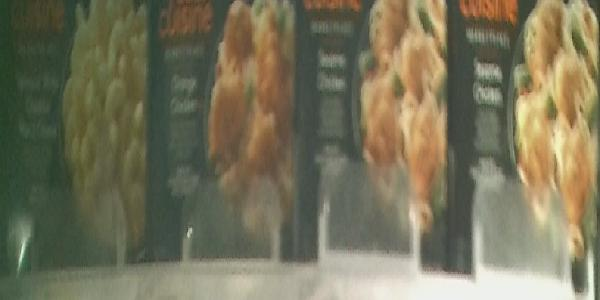pizza1: (448, 3, 599, 285), (146, 3, 299, 261), (300, 3, 448, 267), (4, 3, 144, 268)
